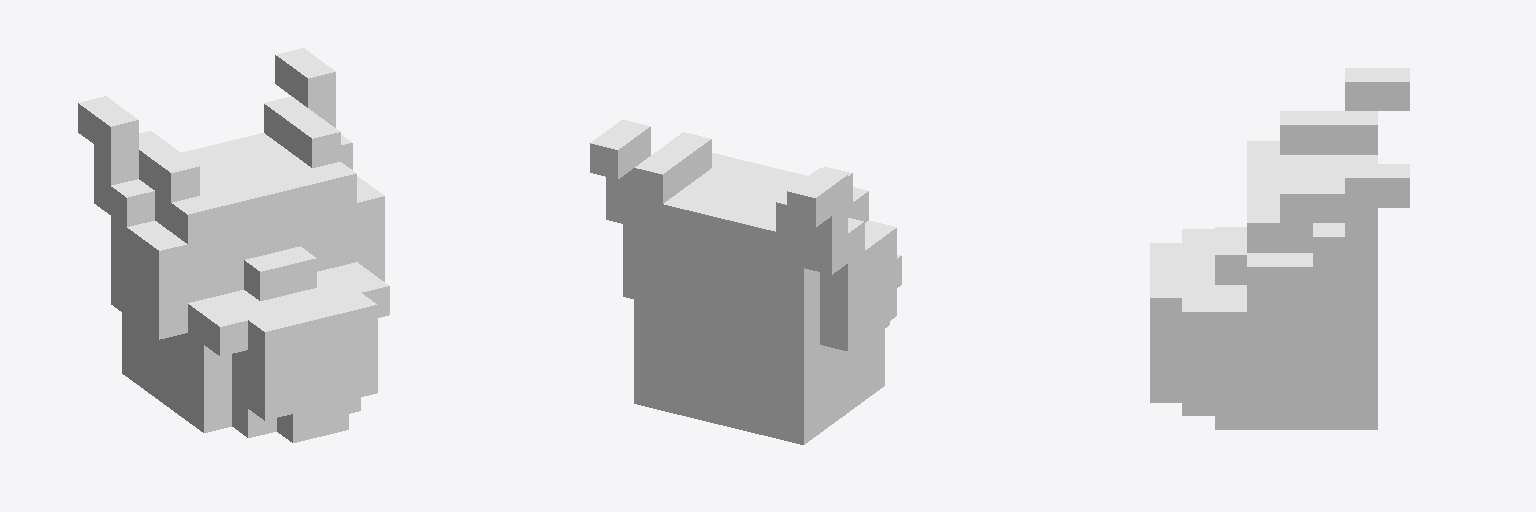
Rendered from Akira-0.obj.
3 views of the same model, side by side, from view 1: azimuth 30°, elevation 25°; view 2: azimuth 150°, elevation 25°; view 3: azimuth 270°, elevation 25° (orthographic).
Visible parts, largest first — view 1: object 1; view 2: object 1; view 3: object 1.
Boxes of the visible parts, x1,y1,x2,y2 form: object 1: [78, 48, 389, 442]; object 1: [590, 119, 901, 444]; object 1: [1150, 68, 1409, 429].
Size of the model in its own units: 0.8 by 0.9 by 0.8.